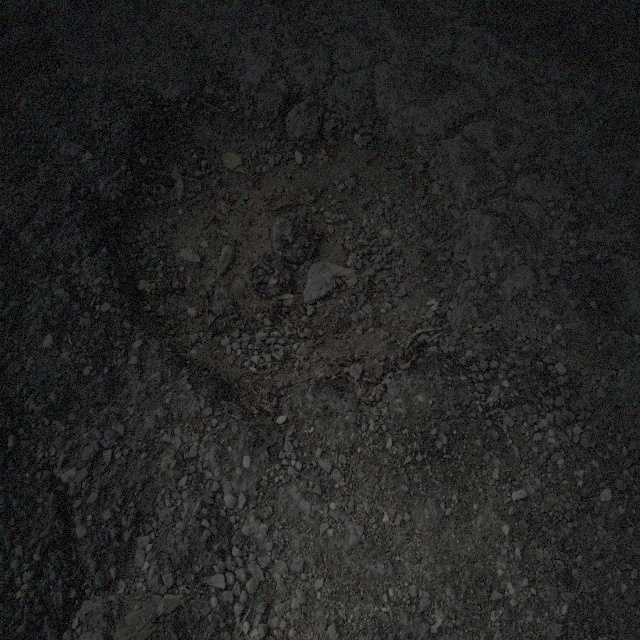pothole: (103, 62, 467, 450)
